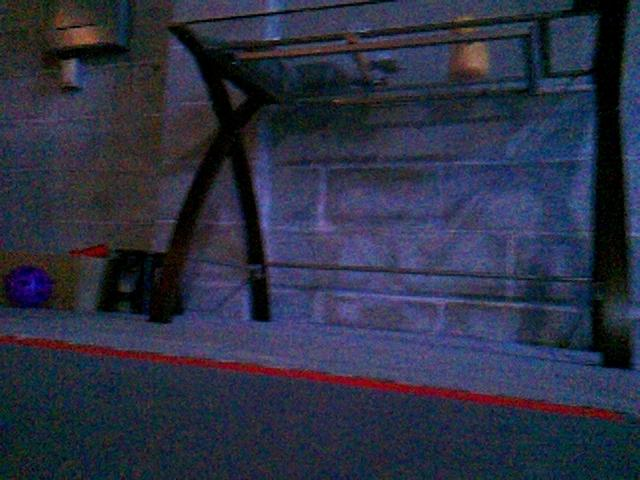Purple: (3, 264, 54, 309)
